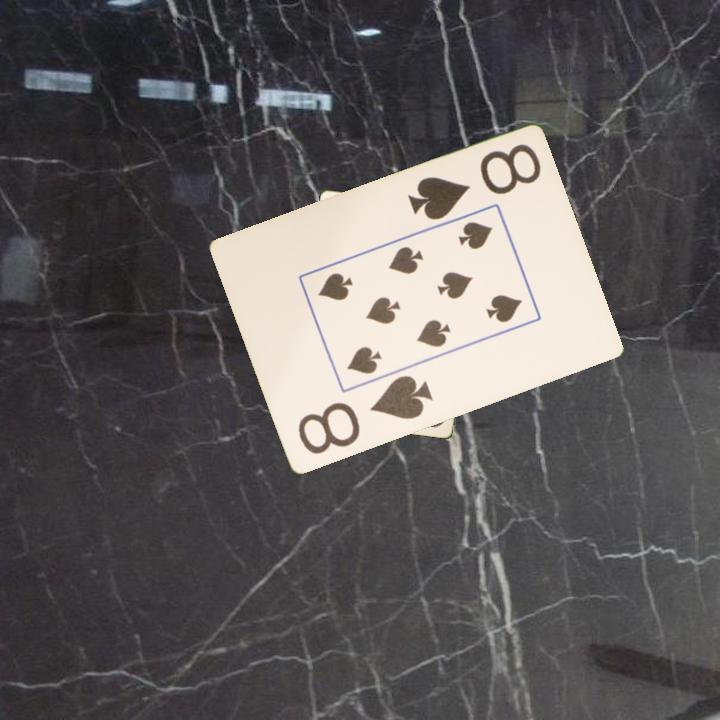8s: (294, 372, 435, 458), (403, 140, 544, 224)
